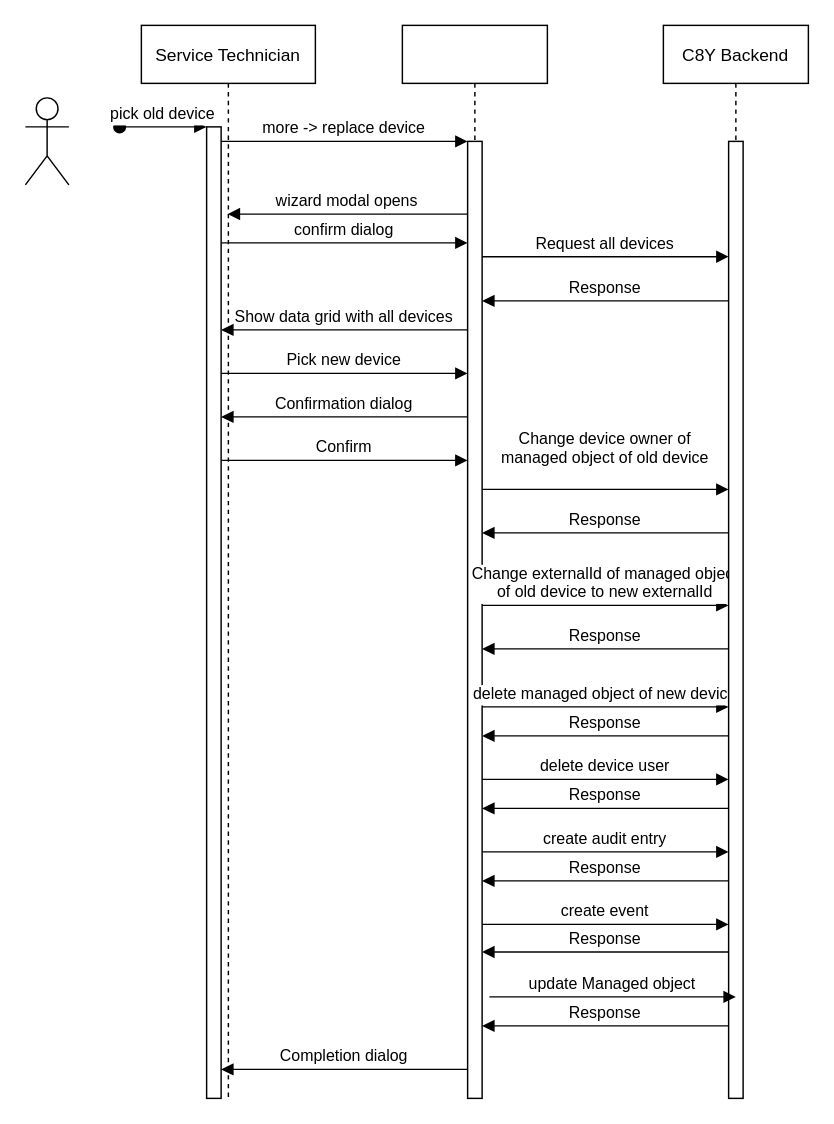
This 834x1124 diagram has some shape labels left out. Here are the shapes that lost their labels. From the top down, the centre of each, then its label:
At (x=46, y=140): "Actor".
At (x=474, y=561): "UI (Wizard)".
